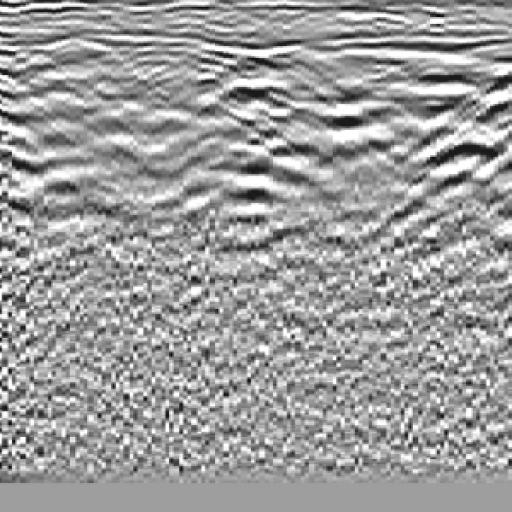metalic: (180, 34, 341, 281)
nonmetalic: (397, 45, 512, 296)
